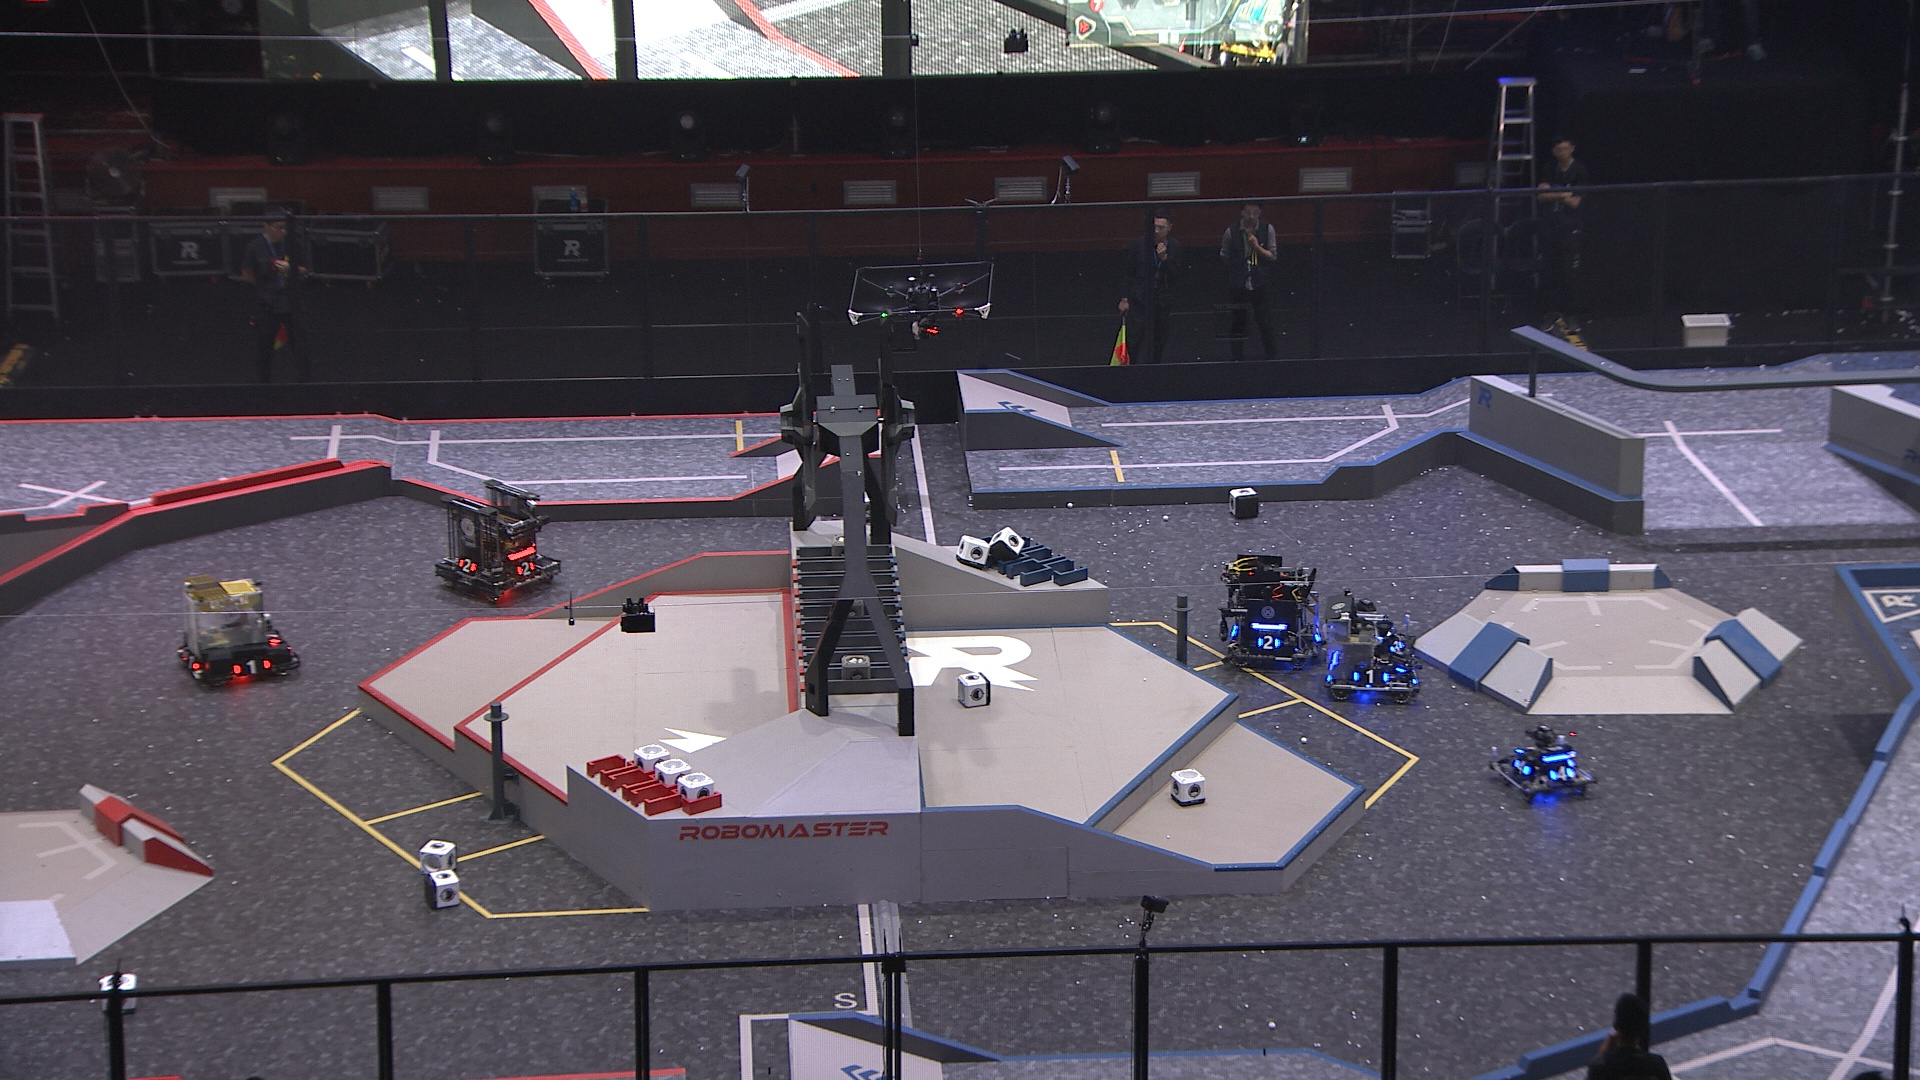armor: (231, 659, 272, 678), (1352, 669, 1387, 688), (1254, 636, 1280, 651), (1513, 756, 1531, 777), (181, 651, 199, 673), (456, 556, 477, 575), (513, 560, 535, 578), (1548, 767, 1575, 782), (264, 626, 282, 646), (1387, 636, 1404, 651), (1516, 744, 1538, 756)
car: (433, 476, 564, 605), (1215, 551, 1331, 673), (175, 578, 299, 684), (1321, 589, 1424, 702), (1487, 723, 1600, 799)
